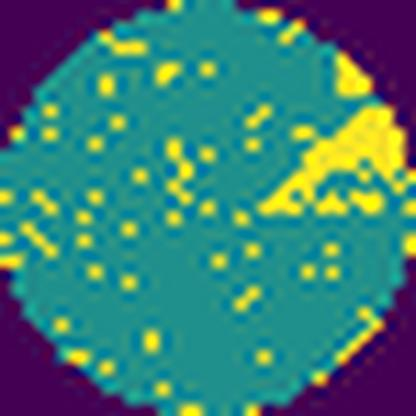Loc: (260, 103, 409, 214)
